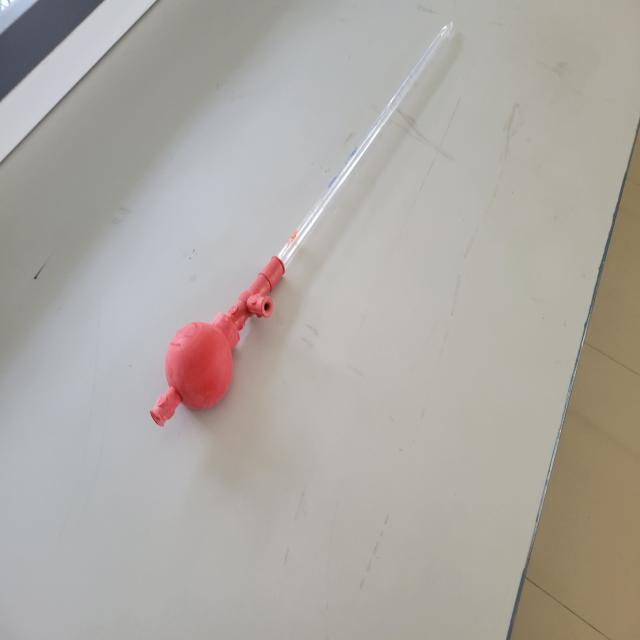Volumetric_Pipet: (128, 9, 472, 444)
